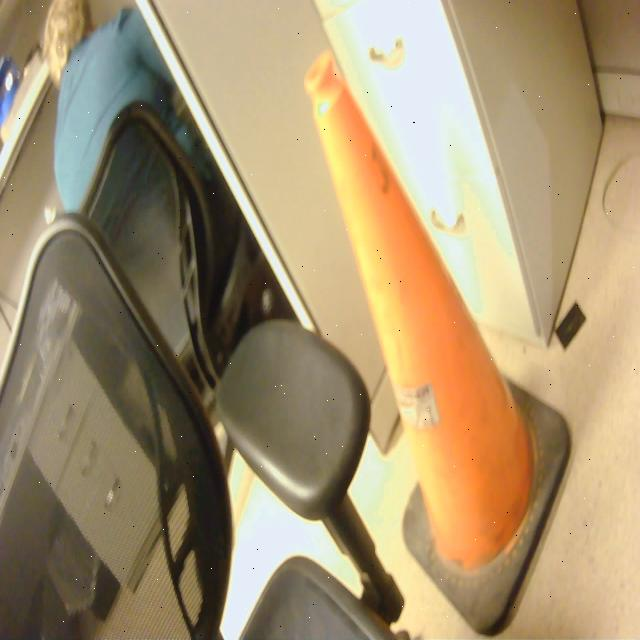traffic cone: (301, 44, 578, 640)
